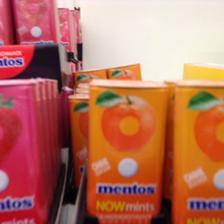Suessigkeit: (86, 77, 166, 222), (170, 81, 222, 224), (13, 0, 57, 44)
